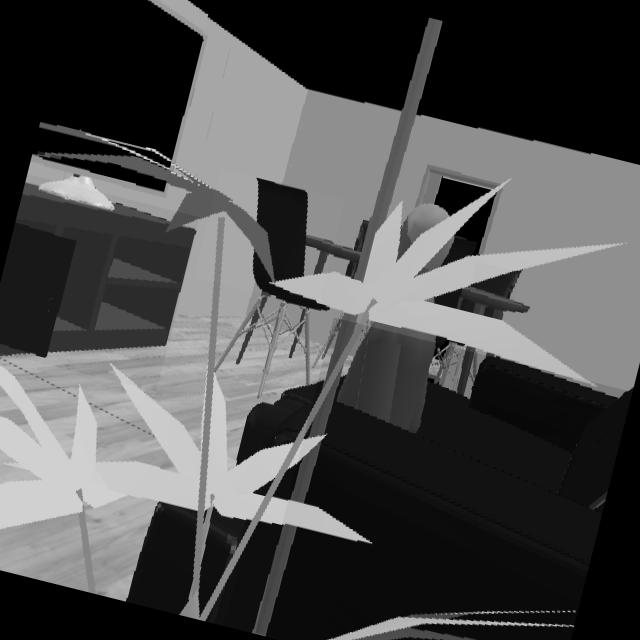cabinet: (0, 183, 190, 357)
chair: (213, 178, 312, 306), (469, 271, 520, 300)
monitor: (32, 0, 202, 168)
sofa: (259, 358, 631, 640)
